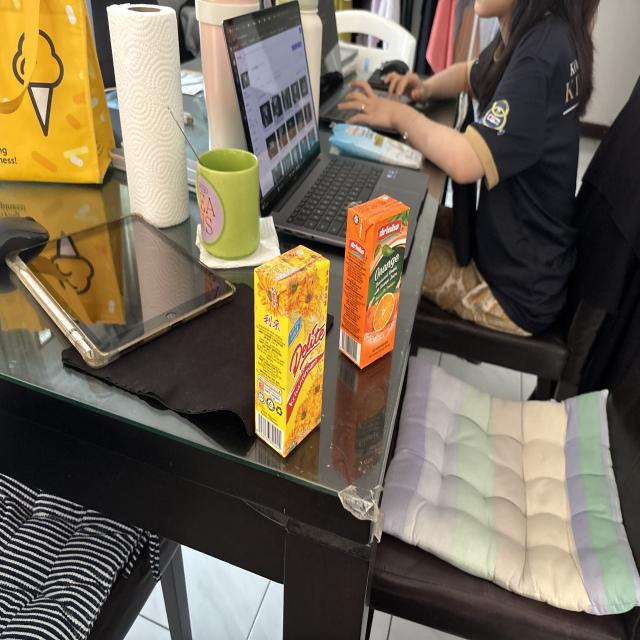drink_carton: (248, 238, 333, 461), (336, 188, 414, 380)
